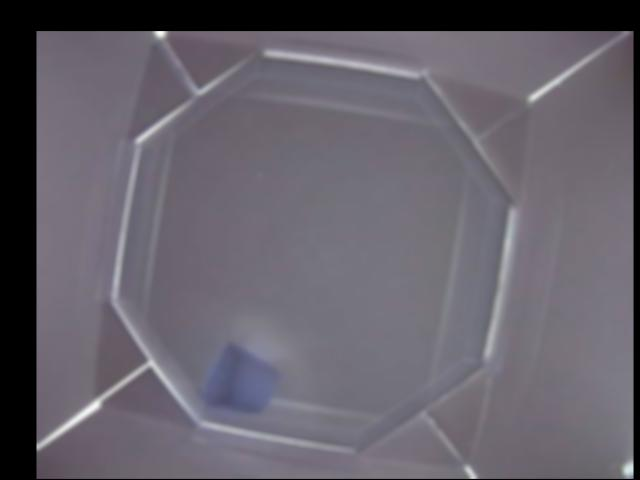Mooli: (205, 339, 281, 418)
